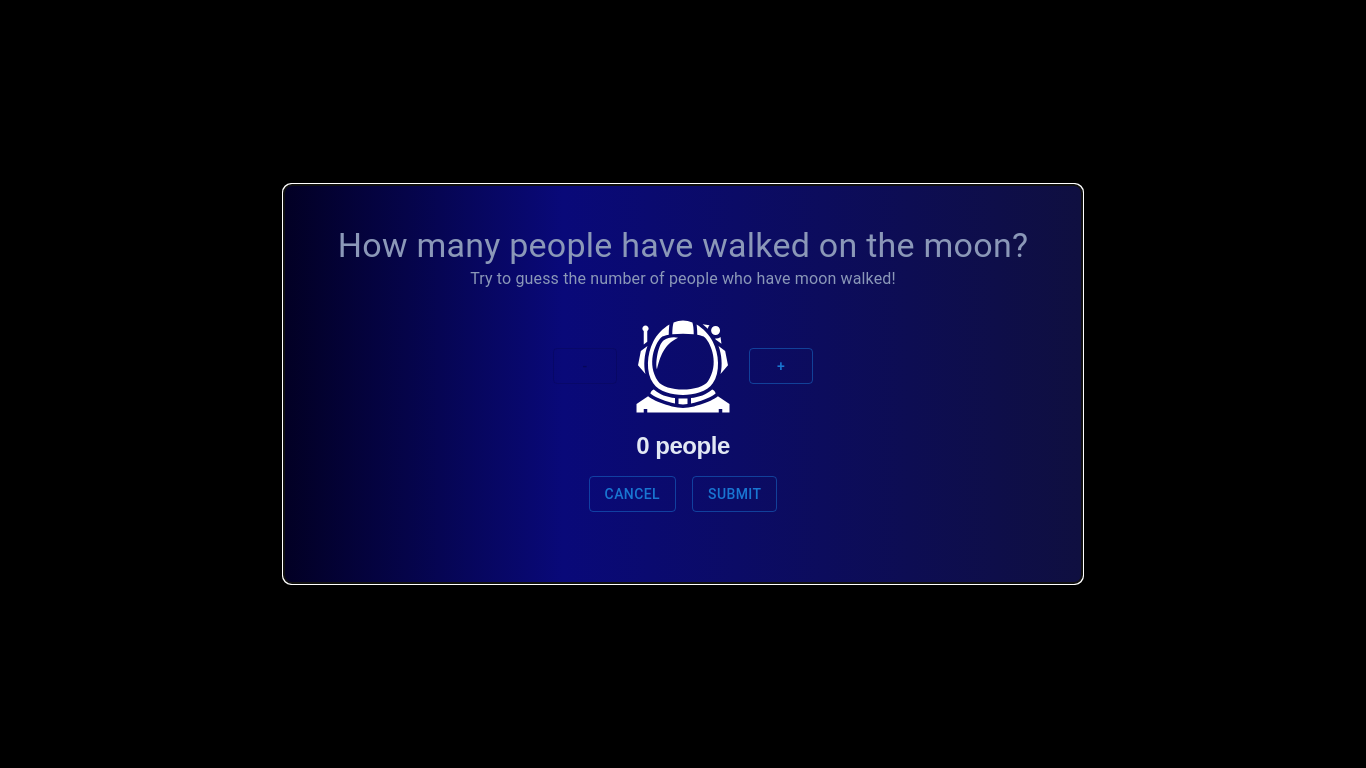
Test: moonwalkerGame › should display the incorrect message when the guess is wrong
// Submit the guess without incrementing (guess is 0)
Click the button with test id "submit-button" at (735, 494), box x1=692 y1=476 x2=777 y2=512
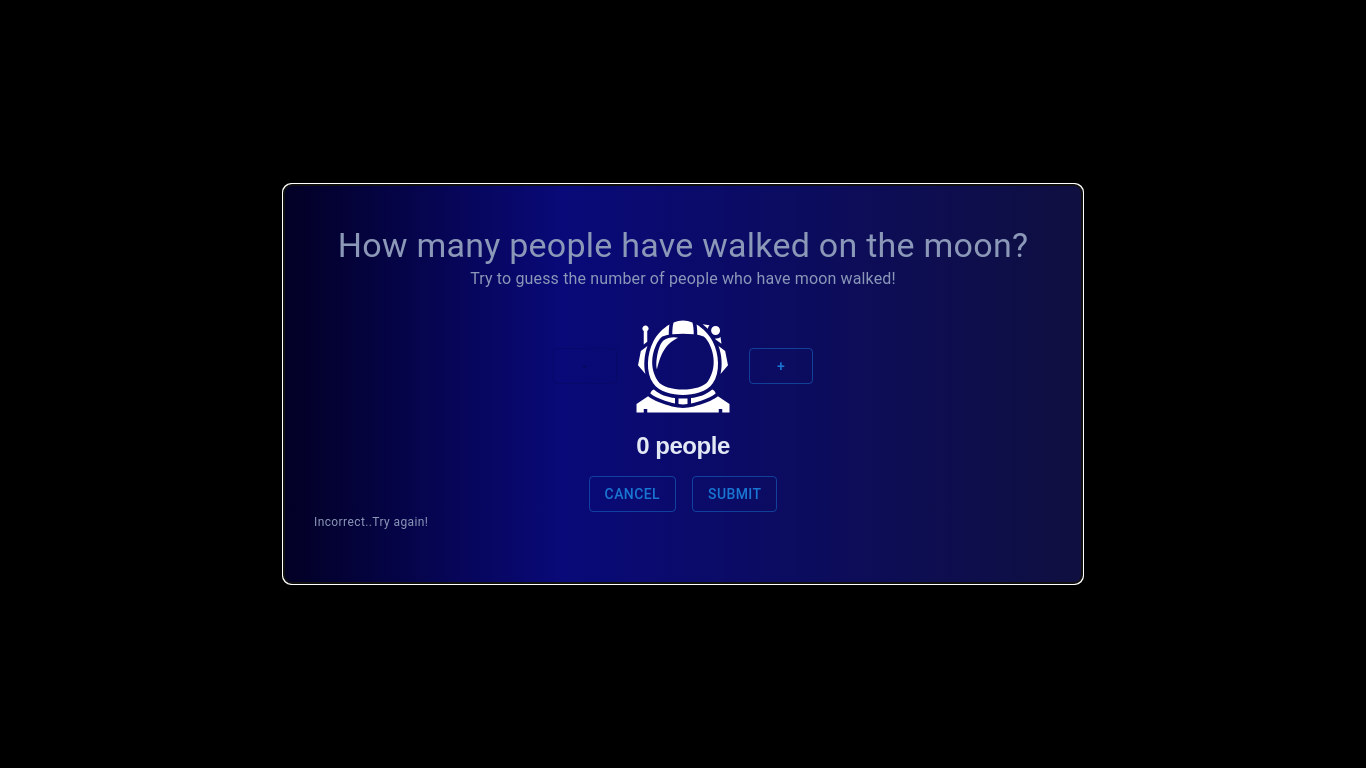
Now the text "Incorrect..Try again!" is shown, box x1=314 y1=516 x2=428 y2=530
